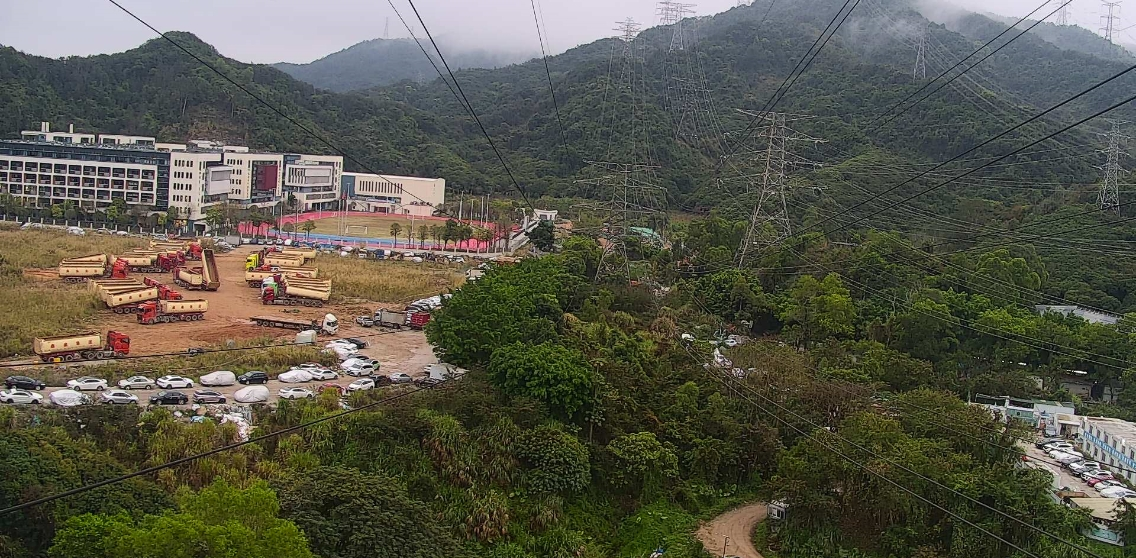山间云雾: (368, 0, 754, 84), (842, 0, 1135, 66)
